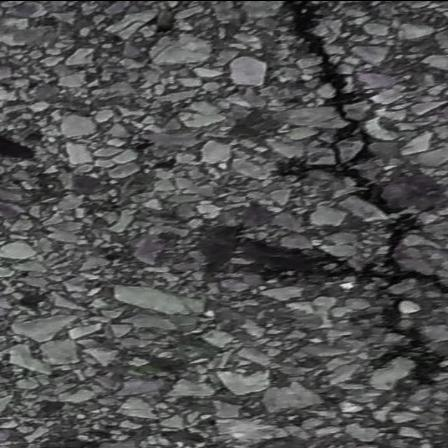crack: (157, 0, 448, 434)
